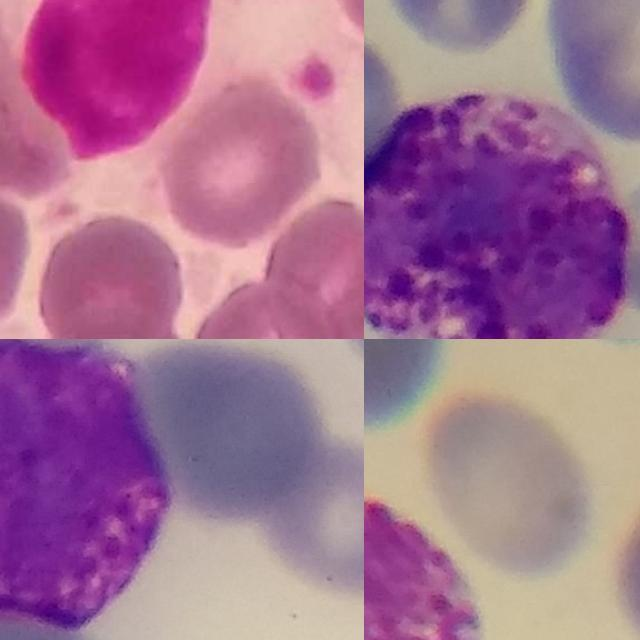Basophil: (364, 89, 630, 339), (0, 339, 169, 629), (364, 481, 489, 640)
Monocyte: (0, 0, 219, 166)
